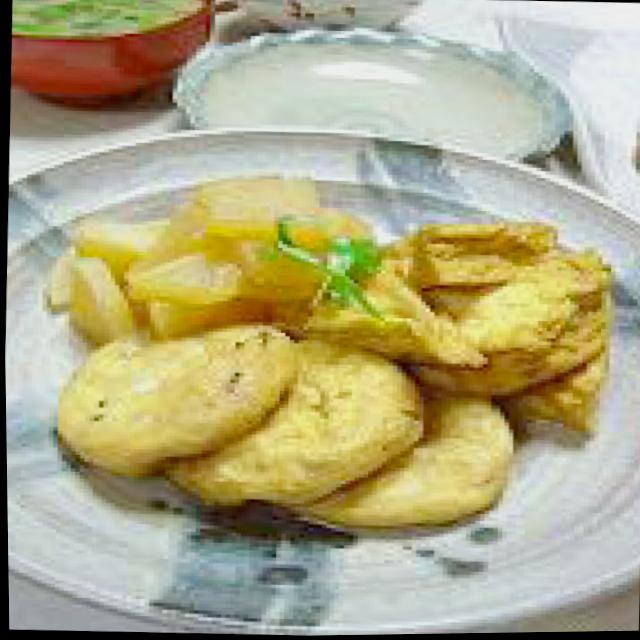熟制海鲜: (2, 138, 620, 588)
